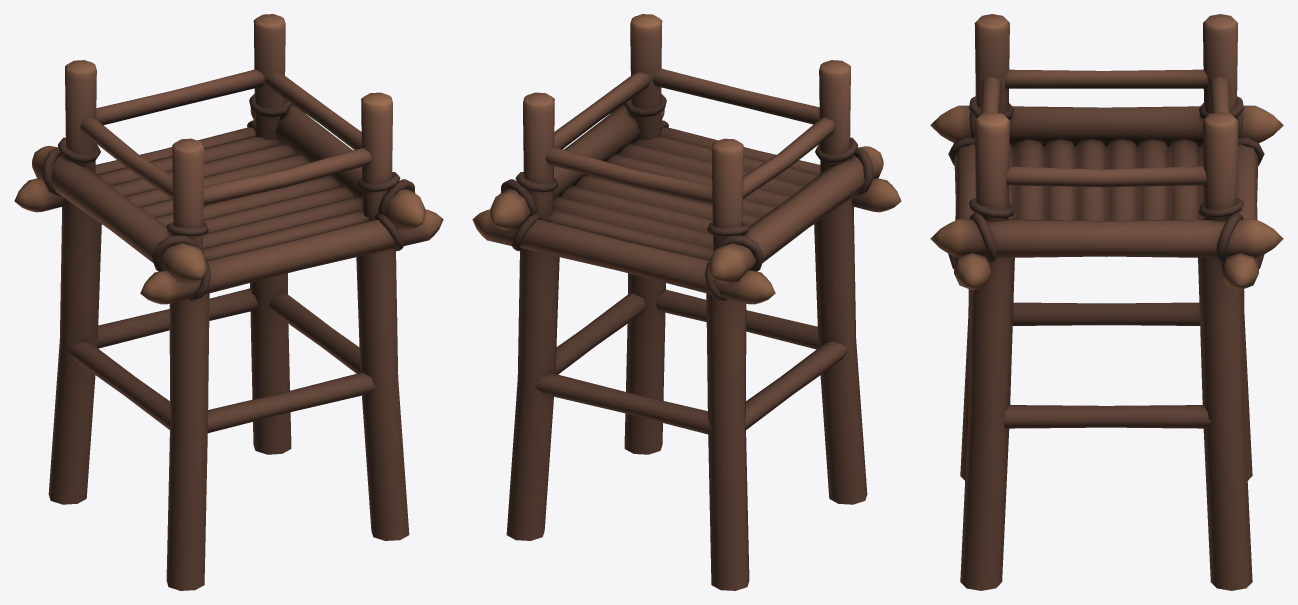
The model's file is guardTower1_lod.fbx.
3 renders of one model, left to right at view 1: azimuth 30°, elevation 25°; view 2: azimuth 150°, elevation 25°; view 3: azimuth 270°, elevation 25°, orthographic. The views are drawn at different scales.
Visible parts, largest first — view 1: tower1_LOD0; view 2: tower1_LOD0; view 3: tower1_LOD0.
Part boxes in pixels (bbox=[...]): tower1_LOD0: bbox=[14, 14, 443, 590]; tower1_LOD0: bbox=[472, 14, 901, 590]; tower1_LOD0: bbox=[930, 14, 1283, 590].
Size of what is drawn, in the model's own units: 140 by 191 by 133.
1 material, 1 textured.
